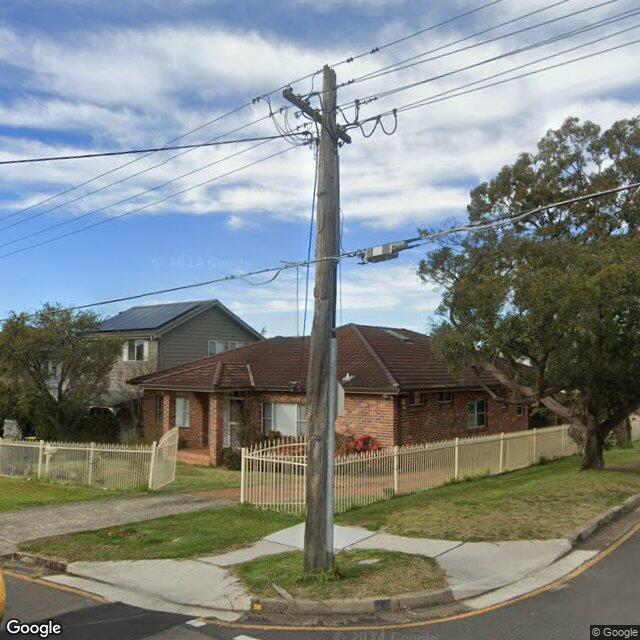crossarm: (280, 87, 352, 147)
timber-pole: (303, 63, 343, 577)
